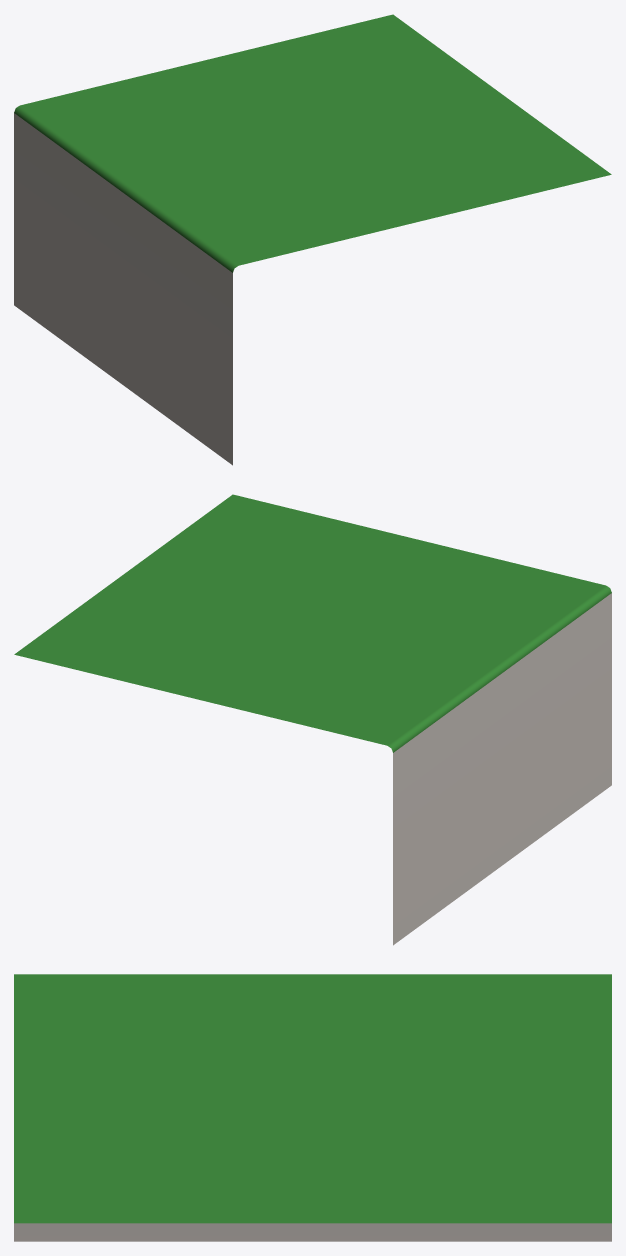
Rendered from cliff_1sided.fbx.
3 views of the same model, one above another, from view 1: azimuth 30°, elevation 25°; view 2: azimuth 150°, elevation 25°; view 3: azimuth 270°, elevation 25° (orthographic). The views are drawn at different scales.
Visible parts, largest first — view 1: Cliff_01; view 2: Cliff_01; view 3: Cliff_01.
Part boxes in pixels (x1,y1,x2,y2): Cliff_01: (14, 14, 611, 465); Cliff_01: (14, 494, 611, 945); Cliff_01: (14, 974, 611, 1241).
Bounding box in the file's own units: 200 × 100 × 200.
